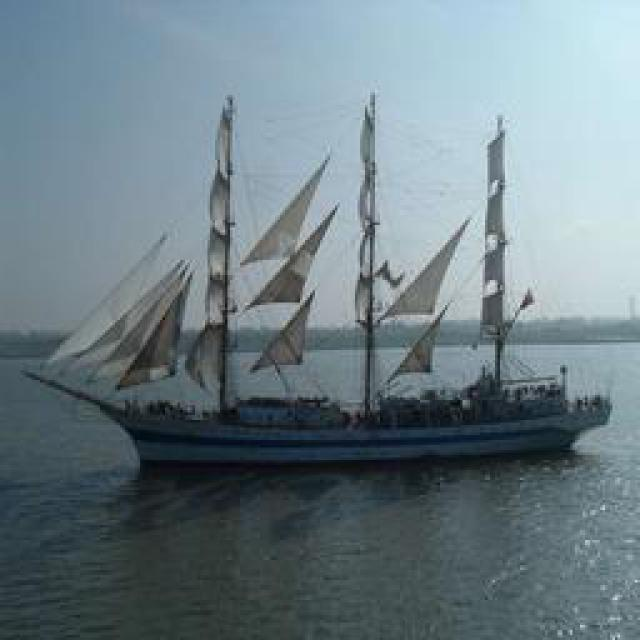Ship: (32, 86, 612, 449)
